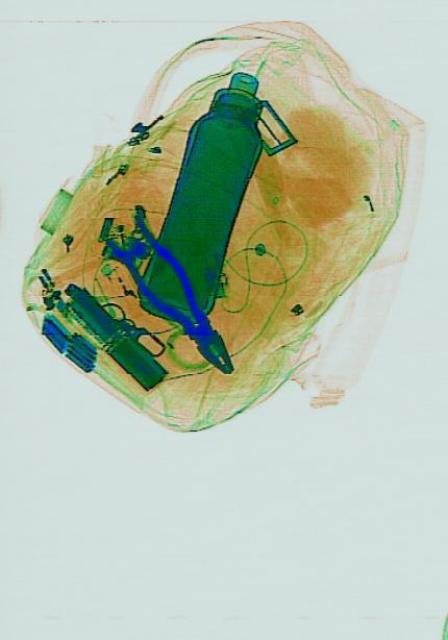Pliers: (103, 198, 242, 394)
